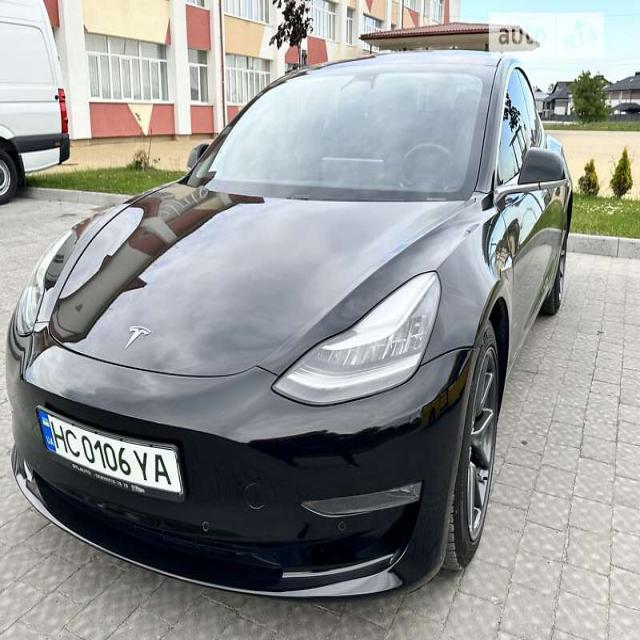plate: (35, 398, 187, 516)
